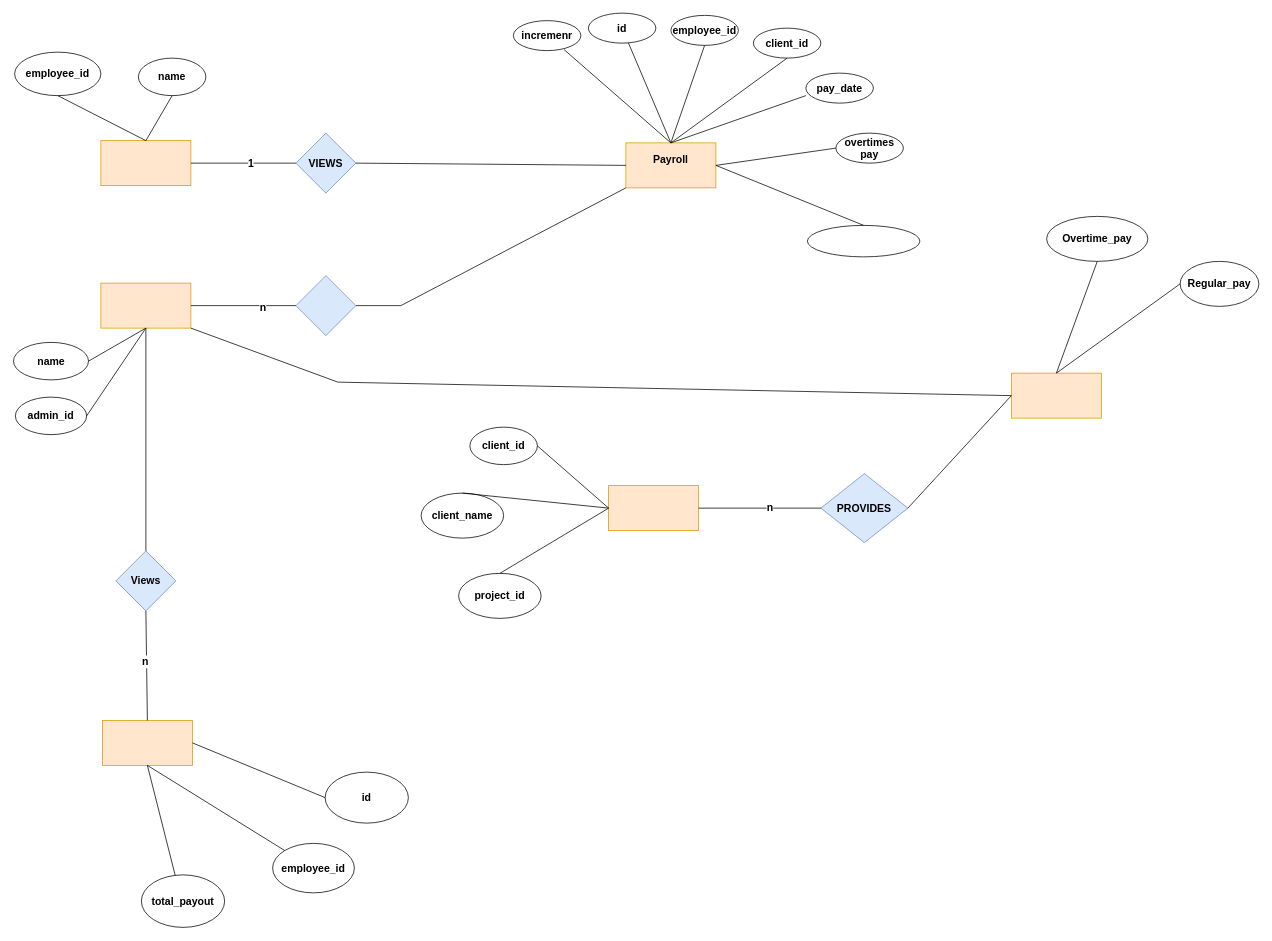
This 1272x941 diagram has some shape labels left out. The shapes that lost their labels are listed below. From the top down, each one's box as (x1, y1, x2, y2) in pixels, then its label:
(100, 140, 191, 186): Employee
(807, 225, 920, 257): no_of_hours_worked
(100, 282, 191, 328): Admin
(295, 275, 356, 336): SETS
(1011, 372, 1101, 418): details
(608, 485, 699, 531): Client
(102, 720, 192, 765): Total_Salary
